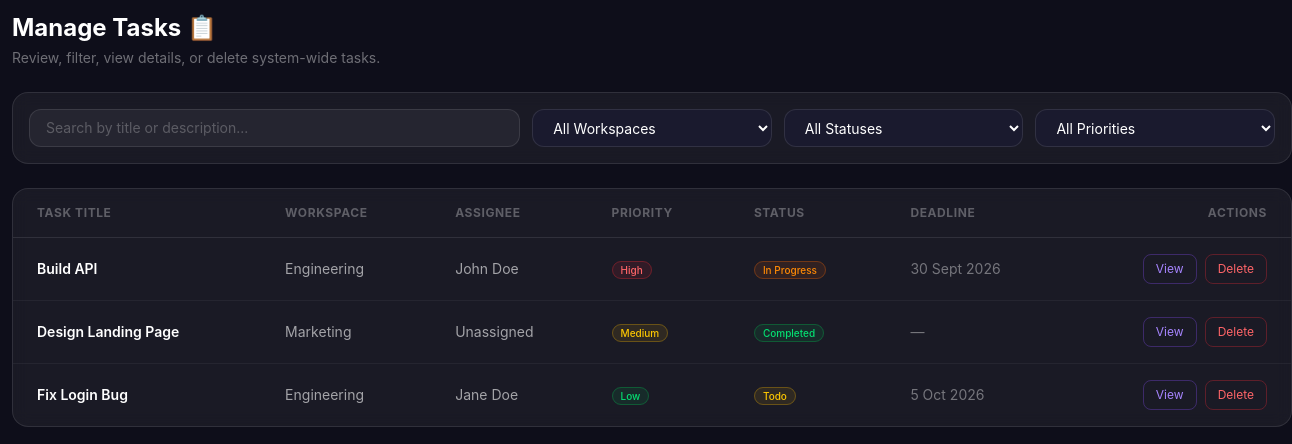
ManageTasks › filters tasks by status
The image size is (1292, 444).
Expected: the text "Build API" is shown, [13,238,261,300]
Select "Completed" in the 2nd dropdown at [904, 128], box [784,109,1023,147]
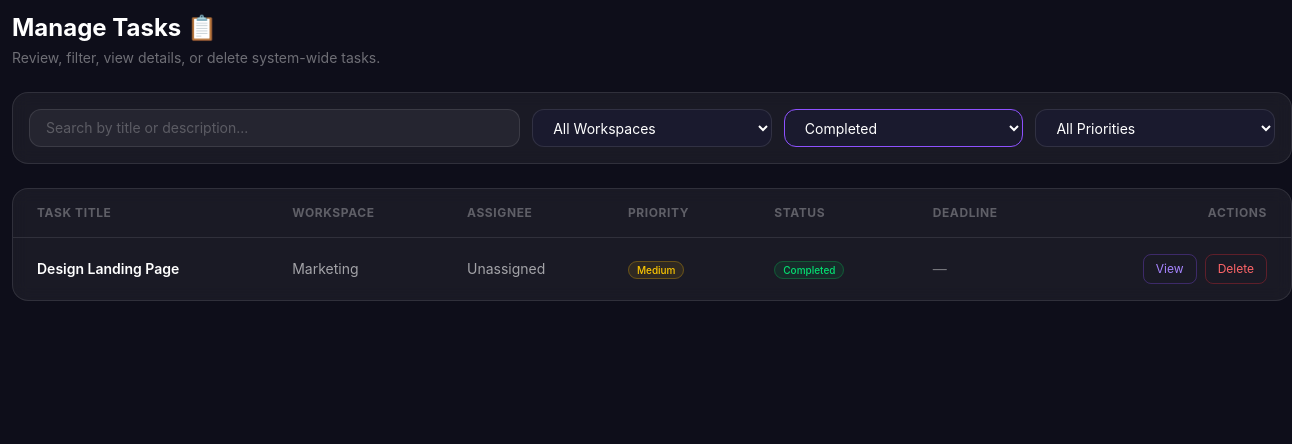
Expected: the text "Design Landing Page" is shown, [13,238,268,300]
Expected: the text "Build API" is gone
Expected: the text "Fix Login Bug" is gone
